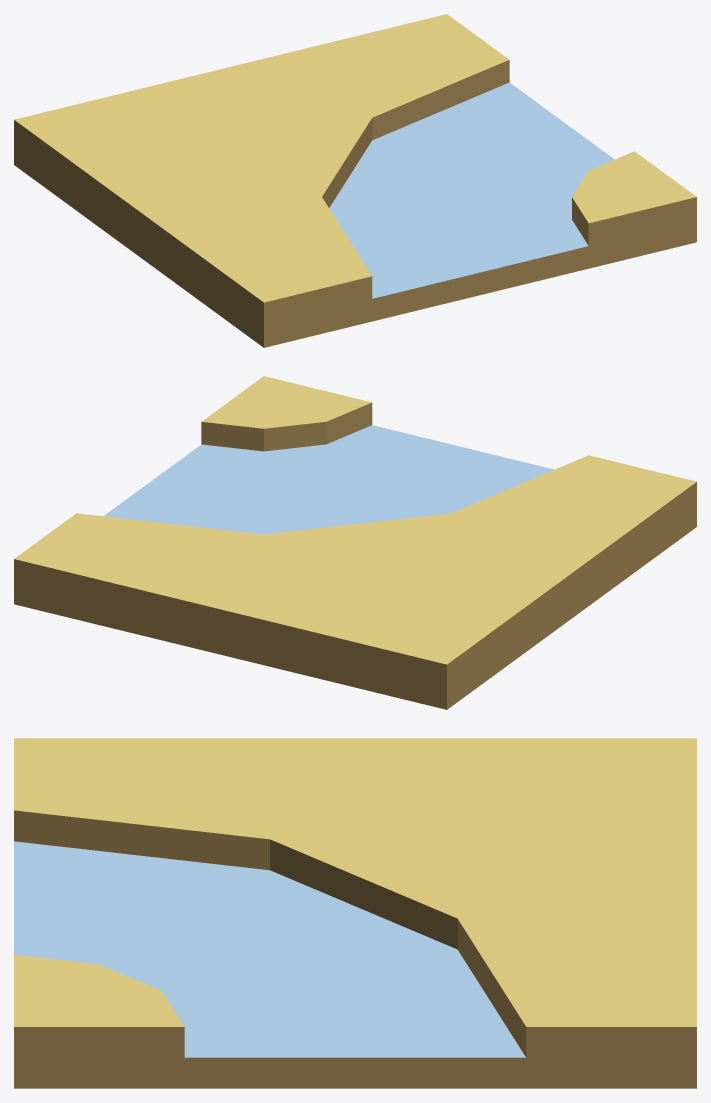
File: Terrain_Modular_Tiles_Sand_Dirt_River_Bend_01.fbx
The picture shows the model from 3 angles, top to bottom: view 1: azimuth 30°, elevation 25°; view 2: azimuth 150°, elevation 25°; view 3: azimuth 270°, elevation 25°; orthographic projection. The views are drawn at different scales.
Parts seen in each view (by area): view 1: Terrain_Modular_Tiles_Sand_Dirt_River_Bend_01; view 2: Terrain_Modular_Tiles_Sand_Dirt_River_Bend_01; view 3: Terrain_Modular_Tiles_Sand_Dirt_River_Bend_01.
Boxes of the visible parts, x1=… form: Terrain_Modular_Tiles_Sand_Dirt_River_Bend_01: x1=14, y1=14, x2=696, y2=347; Terrain_Modular_Tiles_Sand_Dirt_River_Bend_01: x1=14, y1=376, x2=696, y2=709; Terrain_Modular_Tiles_Sand_Dirt_River_Bend_01: x1=14, y1=738, x2=696, y2=1088.
Bounding box in the file's own units: 3000 × 300 × 3000.
